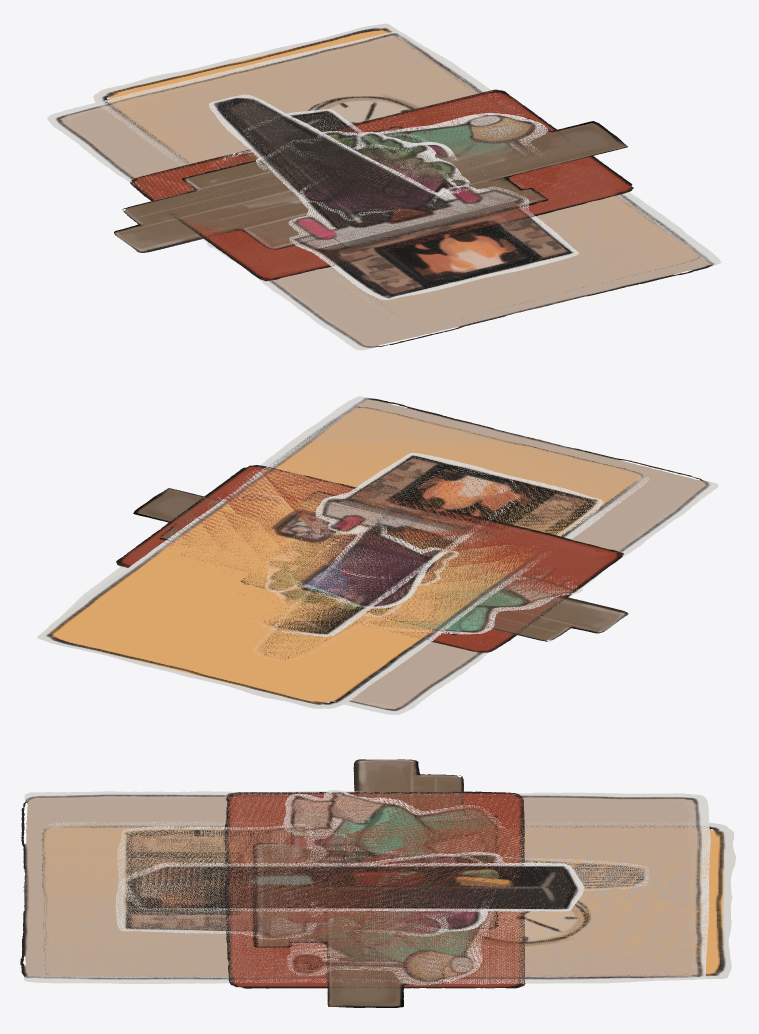
The model's file is living_room.fbx.
3 views of the same model, one above another, from view 1: azimuth 30°, elevation 25°; view 2: azimuth 150°, elevation 25°; view 3: azimuth 270°, elevation 25° (orthographic). The views are drawn at different scales.
Parts seen in each view (by area): view 1: Plane.045, Plane.036, Plane.043, Plane.044, Plane.046, Plane.042, Plane.041, Plane.039, Plane.037, Plane.040; view 2: Plane.046, Plane.045, Plane.044, Plane.036, Plane.043, Plane.040, Plane.042, Plane.037, Plane.039; view 3: Plane.045, Plane.044, Plane.043, Plane.046, Plane.037, Plane.042, Plane.036, Plane.040, Plane.041, Plane.039.
Boxes of the visible parts, left/top/right/bottom form: Plane.045: left=47, top=31, right=721, bottom=350; Plane.036: left=209, top=94, right=578, bottom=299; Plane.043: left=114, top=117, right=627, bottom=252; Plane.044: left=130, top=89, right=633, bottom=281; Plane.046: left=93, top=23, right=703, bottom=323; Plane.042: left=207, top=113, right=570, bottom=248; Plane.041: left=300, top=133, right=461, bottom=220; Plane.039: left=256, top=131, right=471, bottom=205; Plane.037: left=243, top=109, right=514, bottom=277; Plane.040: left=342, top=142, right=457, bottom=160; Plane.046: left=37, top=406, right=649, bottom=708; Plane.045: left=48, top=396, right=718, bottom=714; Plane.044: left=116, top=465, right=623, bottom=652; Plane.036: left=253, top=453, right=603, bottom=660; Plane.043: left=133, top=488, right=628, bottom=641; Plane.040: left=258, top=524, right=445, bottom=608; Plane.042: left=224, top=492, right=582, bottom=634; Plane.037: left=260, top=469, right=519, bottom=636; Plane.039: left=265, top=527, right=410, bottom=617; Plane.045: left=20, top=791, right=710, bottom=984; Plane.044: left=224, top=791, right=525, bottom=988; Plane.043: left=252, top=759, right=498, bottom=1007; Plane.046: left=41, top=821, right=735, bottom=980; Plane.037: left=118, top=862, right=584, bottom=911; Plane.042: left=283, top=790, right=518, bottom=985; Plane.036: left=115, top=824, right=648, bottom=939; Plane.040: left=315, top=853, right=487, bottom=936; Plane.041: left=317, top=852, right=492, bottom=931; Plane.039: left=335, top=852, right=517, bottom=928.
Size of the model in its own units: 83.36 by 1.59e-05 by 97.81.
